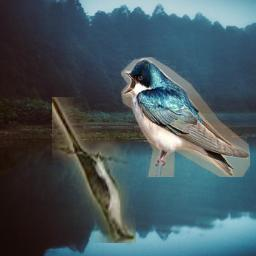Cuckoo: (52, 97, 136, 243)
Swallow: (121, 57, 250, 177)
